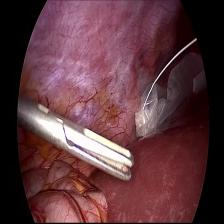Specimen Bag: (134, 44, 210, 148)
